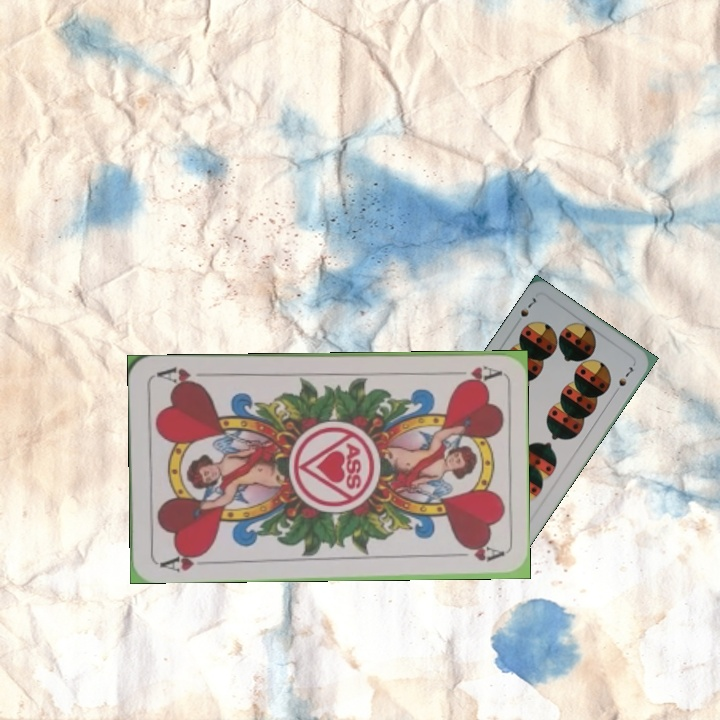HA: (156, 547, 214, 574), (442, 362, 501, 385)
S7: (516, 293, 539, 320)
